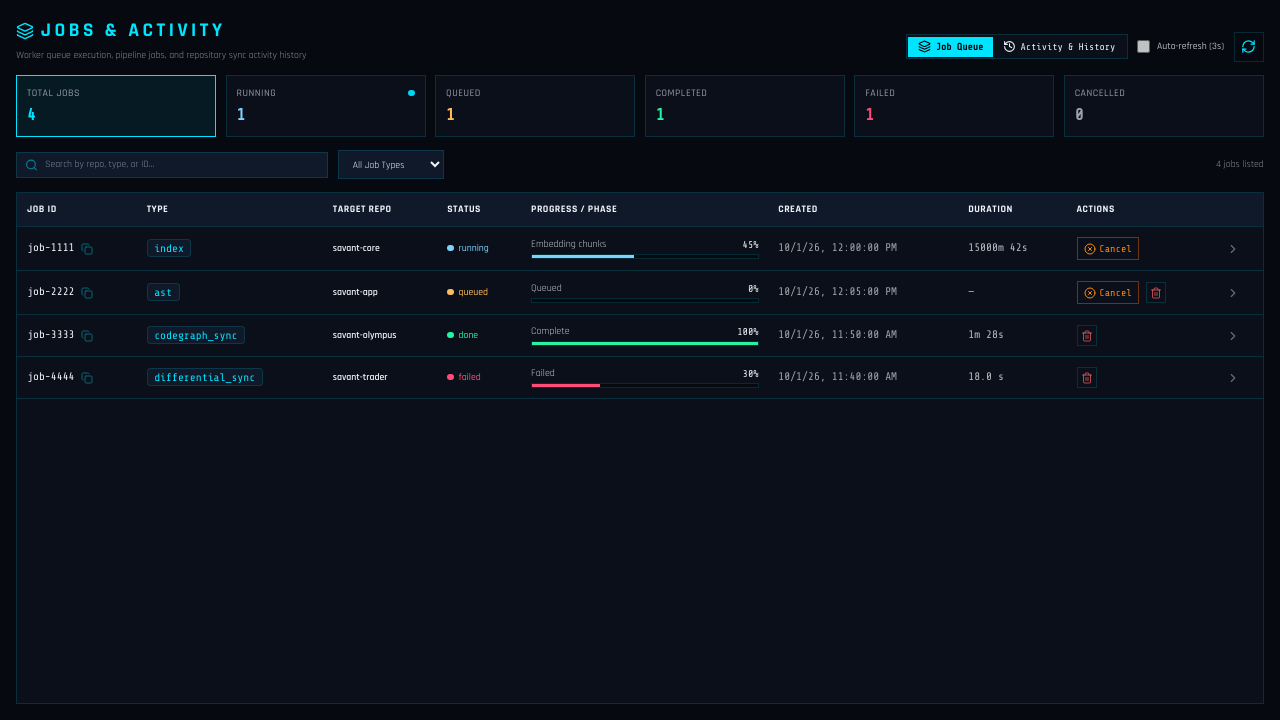
Test case: JobsView › switches to Activity & History subview within JobsView
expect the text "savant-core" is shown: met, box [323,227,437,271]
Step 1. Click the button "Activity & History" → (1059, 47), box [993,37,1125,56]
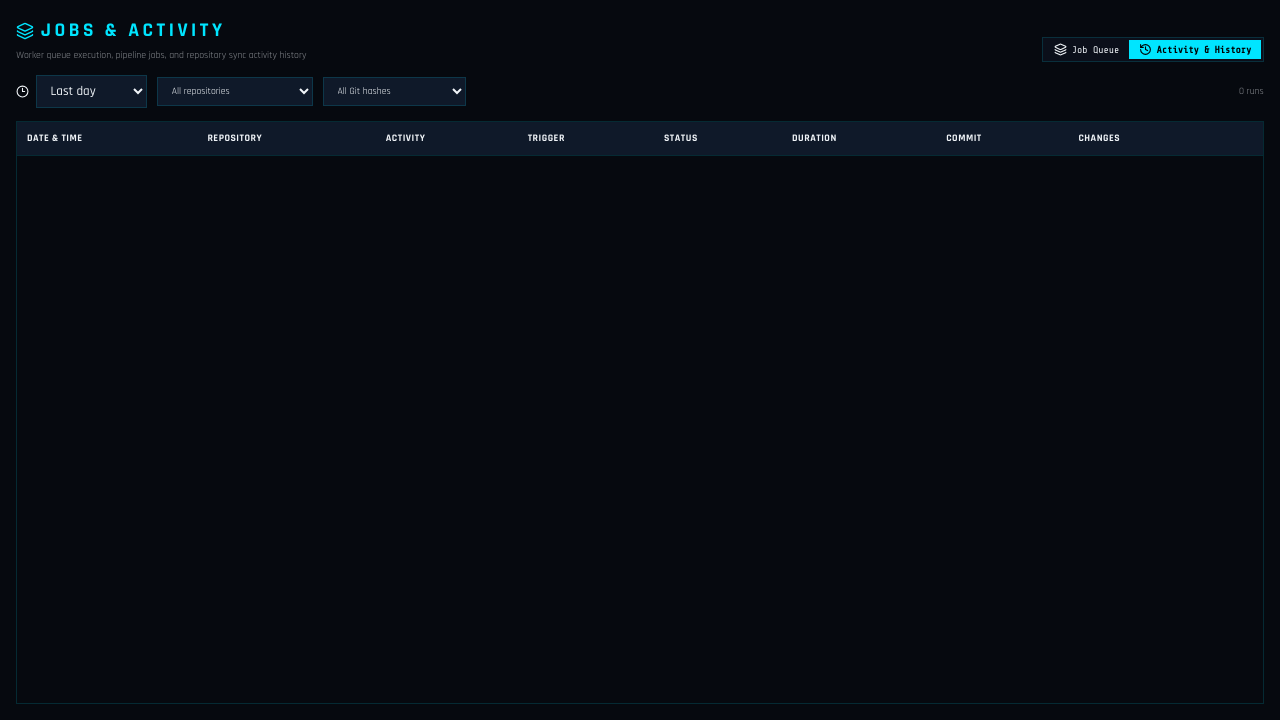
expect the dropdown named "Time range" is shown: met, box [36,75,147,108]
expect the dropdown named "Git hash change" is shown: met, box [323,77,466,106]
Step 2. Click the button "Job Queue" → (1087, 49), box [1044,40,1129,59]
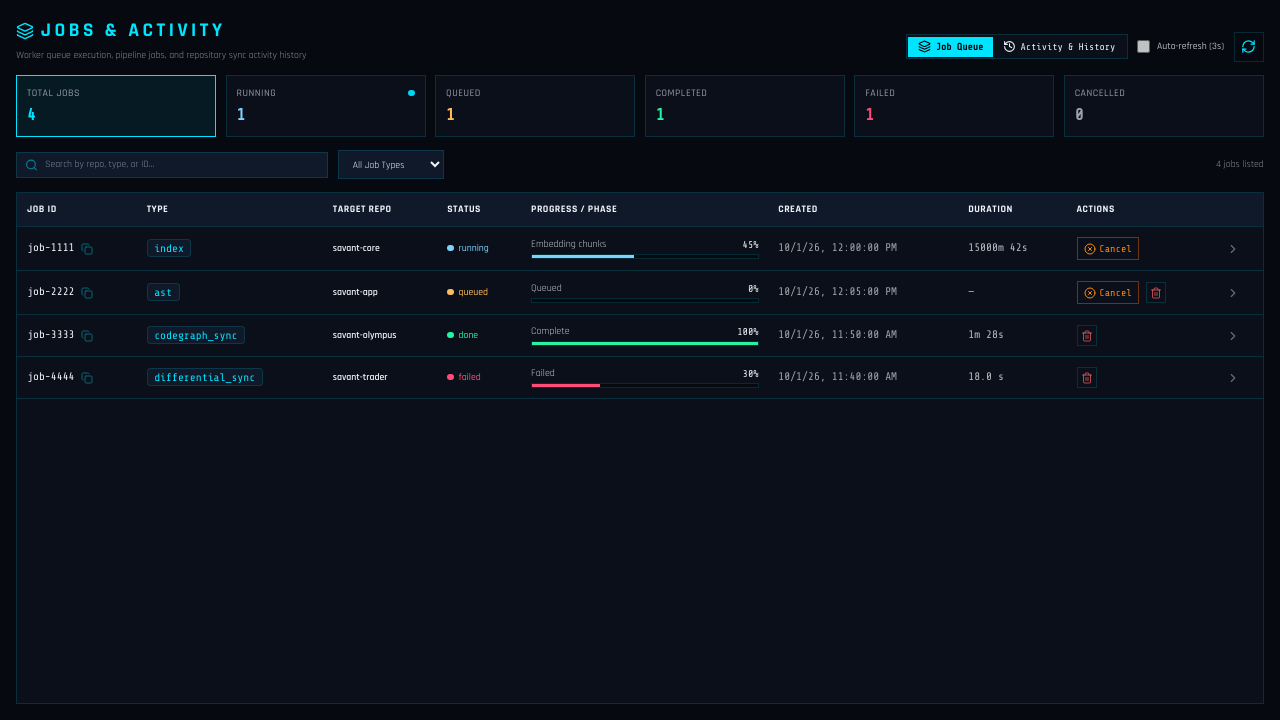
expect the text "savant-core" is shown: met, box [323,227,437,271]
